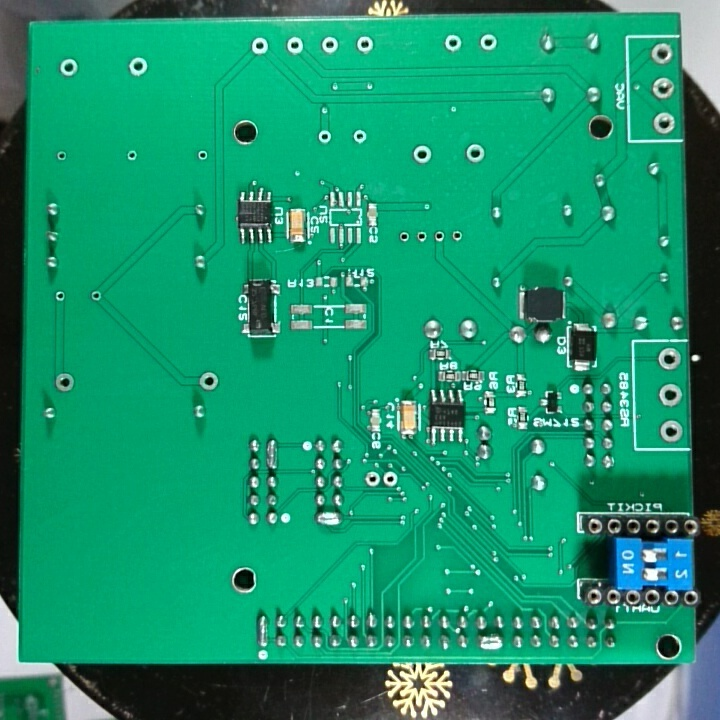F: (656, 415, 685, 445), (657, 345, 685, 372), (657, 380, 683, 409), (462, 140, 488, 166), (648, 40, 674, 66), (650, 75, 674, 101), (651, 110, 677, 134), (57, 56, 81, 81), (53, 369, 77, 394), (125, 55, 150, 78), (352, 34, 377, 56), (411, 143, 434, 166), (249, 34, 271, 58), (197, 369, 219, 393), (441, 31, 464, 53), (318, 33, 340, 55), (478, 30, 498, 54), (284, 34, 305, 55), (381, 468, 400, 491), (362, 469, 382, 489), (316, 127, 334, 148), (413, 226, 431, 246), (351, 126, 368, 147), (194, 146, 212, 165), (448, 228, 466, 246), (53, 147, 70, 165), (124, 146, 140, 165), (88, 287, 103, 306), (396, 229, 413, 245), (52, 289, 68, 305), (431, 229, 446, 245)
P: (254, 612, 271, 649), (476, 632, 505, 652), (265, 435, 281, 471), (313, 509, 344, 527)
